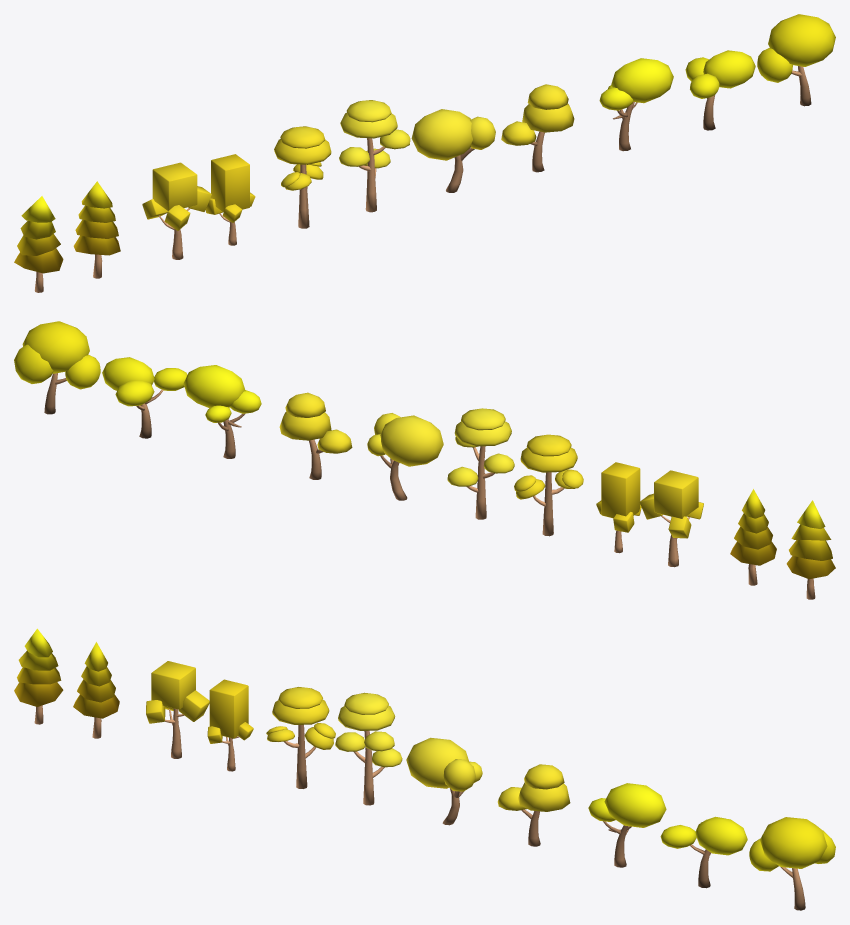
Rendered from Pohon 2.fbx.
3 views of the same model, one above another, from view 1: azimuth 30°, elevation 25°; view 2: azimuth 150°, elevation 25°; view 3: azimuth 330°, elevation 25° (orthographic).
Parts seen in each view (by area): view 1: Tree 2.002, Circle.003, Tree 1.001, Circle.005, Tree 4.002, Icosphere.002, Circle.001, Tree 3.002, Circle.007, Circle.006, Circle.004; view 2: Tree 2.002, Circle.003, Tree 1.001, Circle.001, Tree 4.002, Circle.005, Tree 3.002, Icosphere.002, Circle.007, Circle.006, Circle.004; view 3: Tree 2.002, Circle.003, Circle.001, Tree 1.001, Circle.005, Tree 4.002, Icosphere.002, Circle.007, Tree 3.002, Circle.006, Circle.004.
Part boxes in pixels (x1,y1,x2,y2): Tree 2.002: [757, 14, 835, 106]; Circle.003: [339, 100, 410, 212]; Tree 1.001: [411, 109, 495, 192]; Circle.005: [142, 162, 211, 259]; Tree 4.002: [599, 58, 673, 151]; Icosphere.002: [501, 84, 574, 172]; Circle.001: [274, 126, 331, 228]; Tree 3.002: [685, 50, 755, 130]; Circle.007: [14, 196, 63, 292]; Circle.006: [206, 154, 255, 245]; Circle.004: [73, 181, 120, 278]; Tree 2.002: [14, 321, 100, 414]; Circle.003: [447, 408, 514, 519]; Tree 1.001: [367, 413, 443, 500]; Circle.001: [514, 434, 583, 536]; Tree 4.002: [183, 365, 261, 458]; Circle.005: [639, 470, 703, 567]; Tree 3.002: [102, 357, 187, 438]; Icosphere.002: [279, 392, 352, 479]; Circle.007: [786, 500, 835, 599]; Circle.006: [596, 462, 641, 553]; Circle.004: [730, 489, 776, 585]; Tree 2.002: [749, 817, 835, 910]; Circle.003: [335, 692, 402, 805]; Circle.001: [266, 687, 335, 788]; Tree 1.001: [406, 737, 482, 825]; Circle.005: [146, 661, 209, 758]; Tree 4.002: [588, 783, 666, 867]; Icosphere.002: [497, 764, 570, 846]; Circle.007: [14, 628, 63, 724]; Tree 3.002: [660, 816, 747, 888]; Circle.006: [207, 679, 253, 771]; Circle.004: [73, 642, 119, 738].
Size of the model in its own units: 6269 by 791 by 511.
